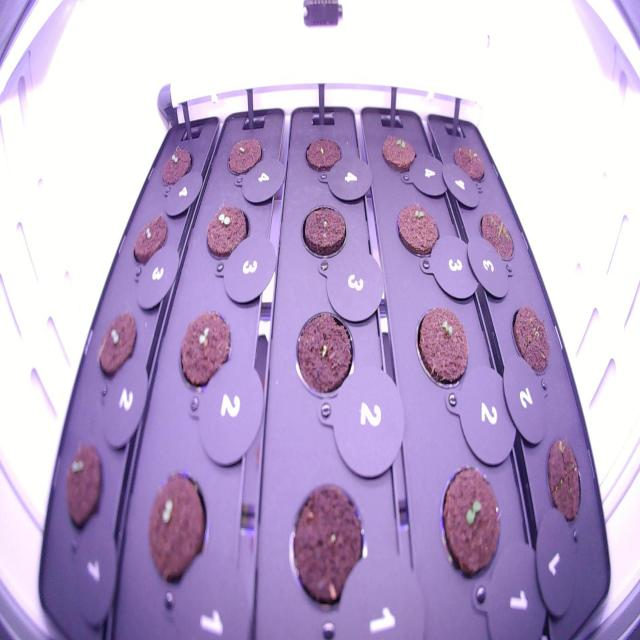germination: (138, 465, 212, 601), (434, 457, 506, 587), (173, 302, 234, 400), (410, 300, 471, 394), (58, 436, 109, 544), (91, 306, 142, 389), (391, 196, 444, 264), (199, 198, 254, 262), (473, 205, 520, 275), (128, 205, 171, 271), (220, 132, 266, 185), (378, 128, 423, 176), (158, 139, 195, 192)
pod: (283, 476, 372, 618), (288, 306, 360, 408), (540, 431, 588, 536), (506, 291, 556, 386), (296, 200, 350, 264), (446, 136, 488, 190), (299, 132, 345, 179)
